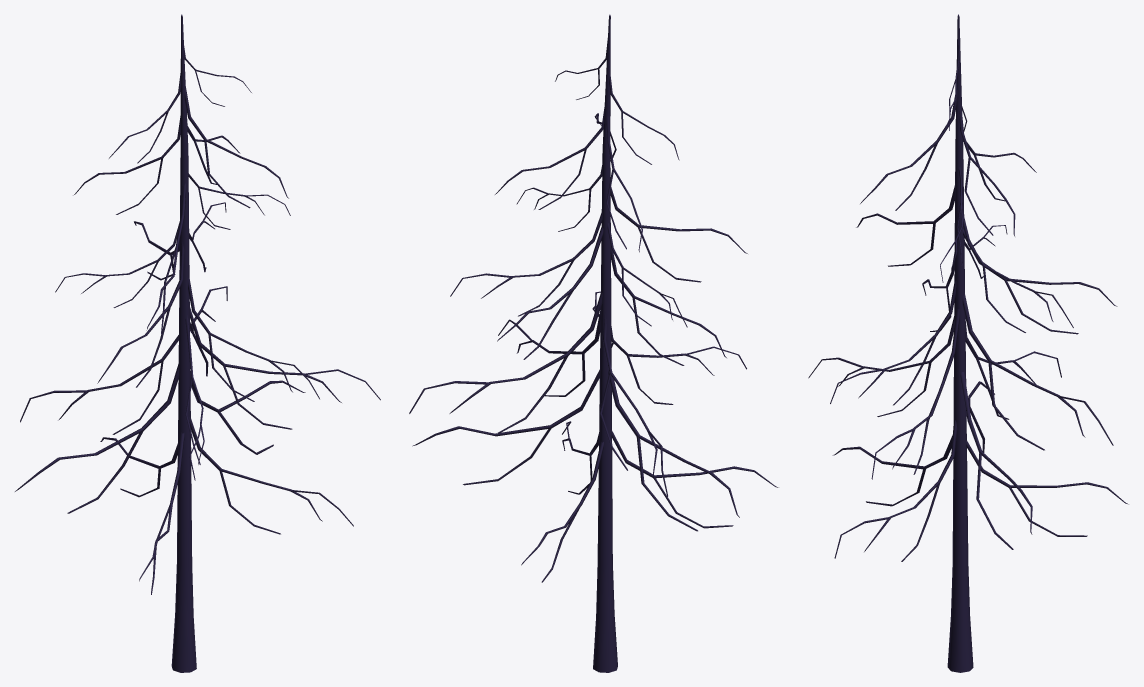
The model's file is cmc_barepine.fbx.
3 views of the same model, side by side, from view 1: azimuth 30°, elevation 25°; view 2: azimuth 150°, elevation 25°; view 3: azimuth 270°, elevation 25° (orthographic).
Visible parts, largest first — view 1: bare_pine_tree_LOD0; view 2: bare_pine_tree_LOD0; view 3: bare_pine_tree_LOD0.
Boxes of the visible parts, <box> form: bare_pine_tree_LOD0: <box>15,14,380,672</box>; bare_pine_tree_LOD0: <box>409,14,778,672</box>; bare_pine_tree_LOD0: <box>808,14,1128,672</box>.
Size of what is drawn, in the model's own units: 10.57 by 21.3 by 9.51.
